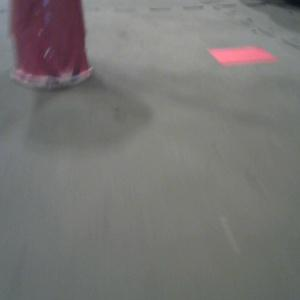middle: (7, 1, 92, 86)
